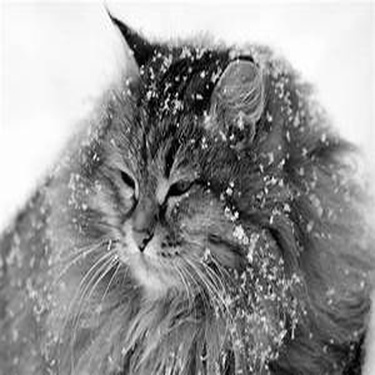cat: (8, 9, 362, 371)
